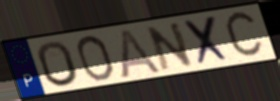A: (118, 26, 164, 80)
C: (223, 8, 267, 62)
N: (144, 20, 197, 73)
O: (35, 40, 81, 89), (74, 33, 116, 83)
X: (181, 14, 233, 68)
